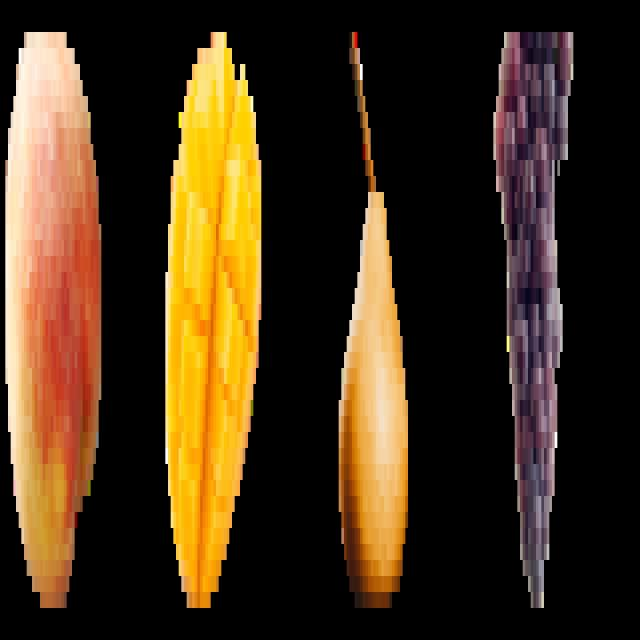grape: (492, 13, 579, 621)
mango: (163, 16, 266, 630)
peach: (2, 10, 106, 622)
pear: (324, 10, 428, 628)
